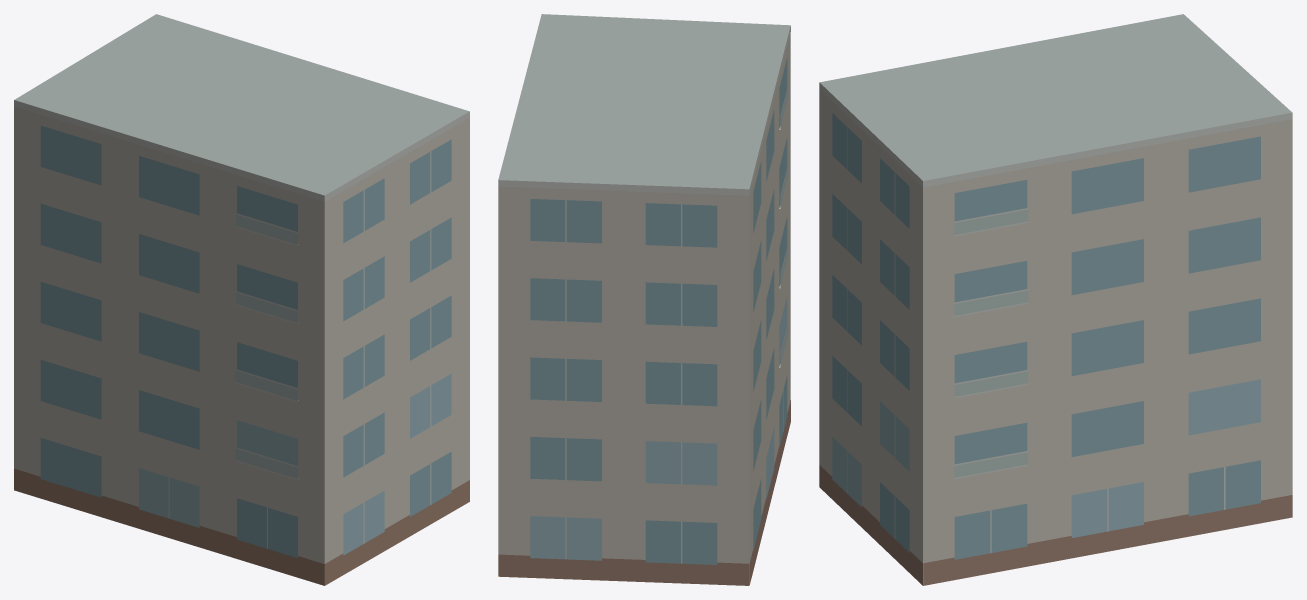
File: residential-cb8c2d34-6756-494d-ad4a-5ca770648d07.glb
3 views of the same model, side by side, from view 1: azimuth 30°, elevation 25°; view 2: azimuth 150°, elevation 25°; view 3: azimuth 270°, elevation 25° (orthographic). The views are drawn at different scales.
Visible parts, largest first — view 1: residential-cb8c2d34-6756-494d-ad4a-5ca770648d07.tmp; view 2: residential-cb8c2d34-6756-494d-ad4a-5ca770648d07.tmp; view 3: residential-cb8c2d34-6756-494d-ad4a-5ca770648d07.tmp.
Part boxes in pixels (x1,y1,x2,y2): residential-cb8c2d34-6756-494d-ad4a-5ca770648d07.tmp: (14,14,469,585); residential-cb8c2d34-6756-494d-ad4a-5ca770648d07.tmp: (498,14,790,585); residential-cb8c2d34-6756-494d-ad4a-5ca770648d07.tmp: (819,14,1292,585).
Bounding box in the file's own units: 13.51 × 15.25 × 16.16.
